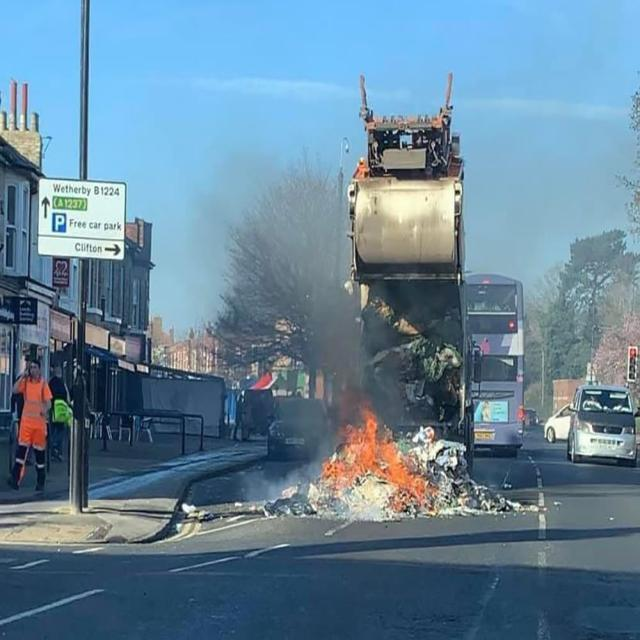Fire: (324, 404, 441, 514)
Smoke: (280, 208, 364, 397), (246, 466, 320, 496)
